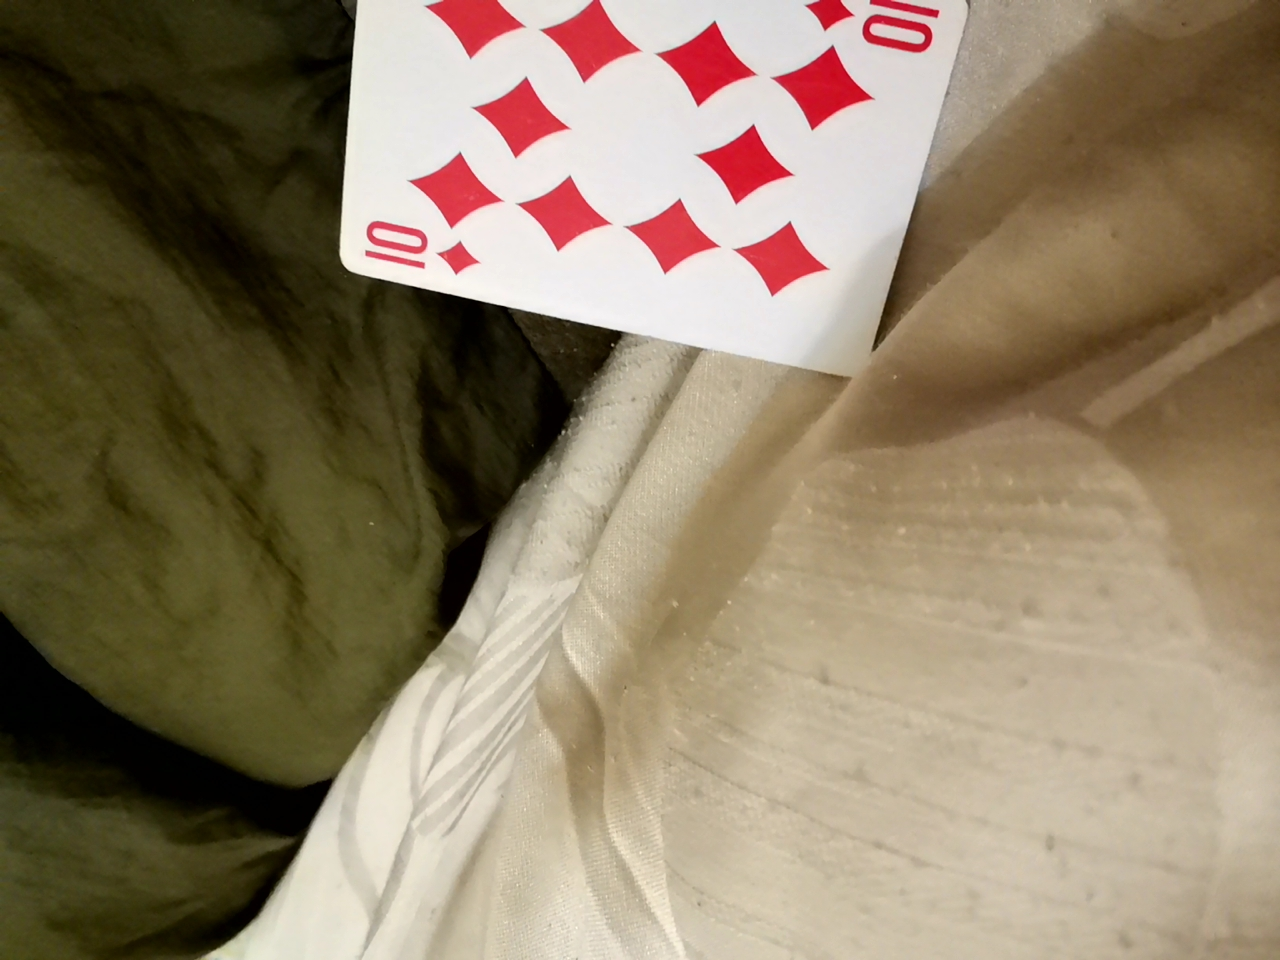fk 10: (293, 0, 975, 378)
